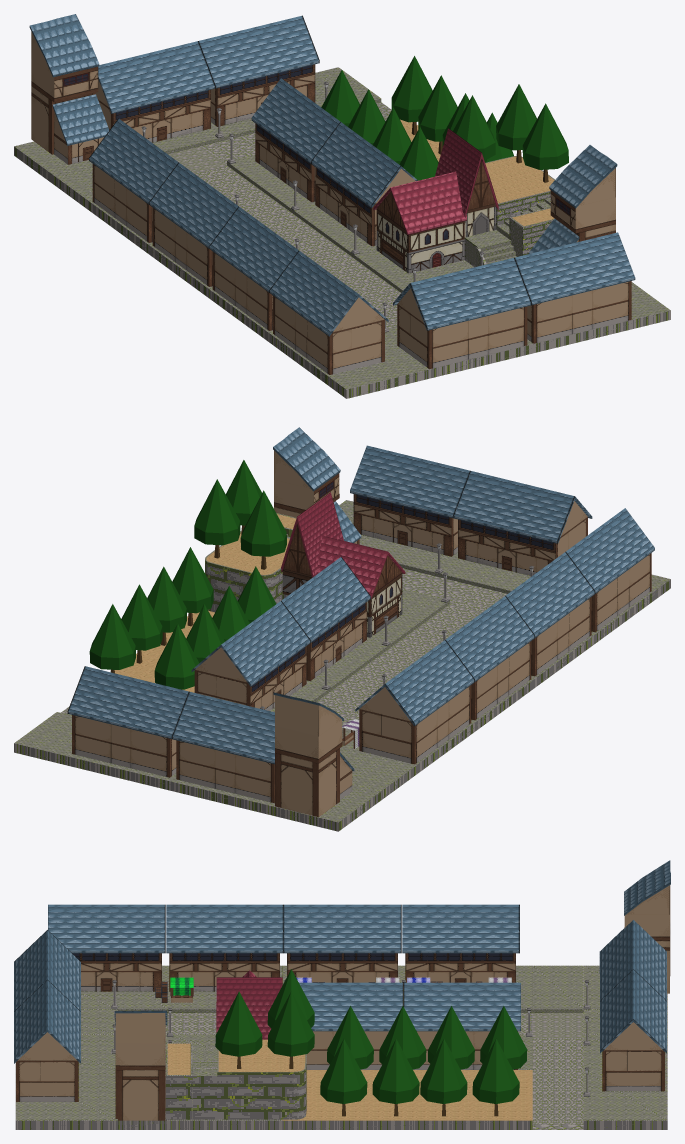
3 renders of one model, top to bottom at view 1: azimuth 30°, elevation 25°; view 2: azimuth 150°, elevation 25°; view 3: azimuth 270°, elevation 25°, orthographic.
Visible parts, largest first — view 1: Plane.002, New object.046, New object.036, New object.045, New object.037, New object.044, New object.043, New object.042, New object.040, New object.032, New object.039, New object.038 (+12 smaller); view 2: Plane.002, New object.046, New object.042, New object.045, New object.039, New object.043, New object.041, New object.044, New object.036, New object.037, New object.038, New object.032 (+14 smaller); view 3: Plane.002, New object.034, New object.032, New object.039, New object.038, New object.037, New object.042, New object.045, New object.041, New object.035, New object.040, New object.046 (+15 smaller).
Part boxes in pixels (box(x1,y1,x2,y2)): Plane.002: box(14, 67, 670, 398); New object.046: box(393, 258, 530, 369); New object.036: box(373, 128, 498, 273); New object.045: box(514, 232, 635, 343); New object.037: box(269, 250, 388, 374); New object.044: box(29, 14, 109, 164); New object.043: box(96, 41, 215, 142); New object.042: box(198, 15, 319, 126); New object.040: box(311, 122, 417, 246); New object.032: box(209, 206, 298, 330); New object.039: box(89, 118, 178, 242); New object.038: box(149, 162, 238, 286); Plane.002: box(14, 500, 670, 831); New object.046: box(454, 471, 592, 575); New object.042: box(67, 666, 188, 777); New object.045: box(350, 445, 470, 556); New object.039: box(355, 640, 474, 764); New object.043: box(172, 691, 274, 802); New object.041: box(191, 601, 310, 710); New object.044: box(273, 692, 354, 817); New object.036: box(281, 492, 405, 637); New object.037: box(565, 508, 654, 632); New object.038: box(445, 596, 534, 720); New object.032: box(505, 552, 594, 676); Plane.002: box(15, 965, 667, 1129); New object.034: box(165, 1039, 306, 1120); New object.032: box(166, 904, 283, 991); New object.039: box(402, 904, 519, 982); New object.038: box(284, 904, 401, 982); New object.037: box(48, 904, 165, 991); New object.042: box(600, 970, 666, 1091); New object.045: box(14, 980, 80, 1101); New object.041: box(403, 982, 520, 1069); New object.035: box(114, 1010, 167, 1120); New object.040: box(299, 982, 402, 1069); New object.046: box(14, 930, 80, 1011).
Bounding box in the file's own units: 1746 × 679 × 3031.
Materials: 142 (108 with a texture image).
